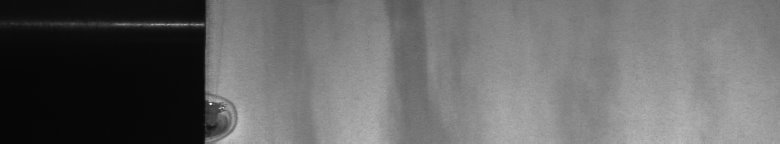hb: (216, 88, 244, 136)
